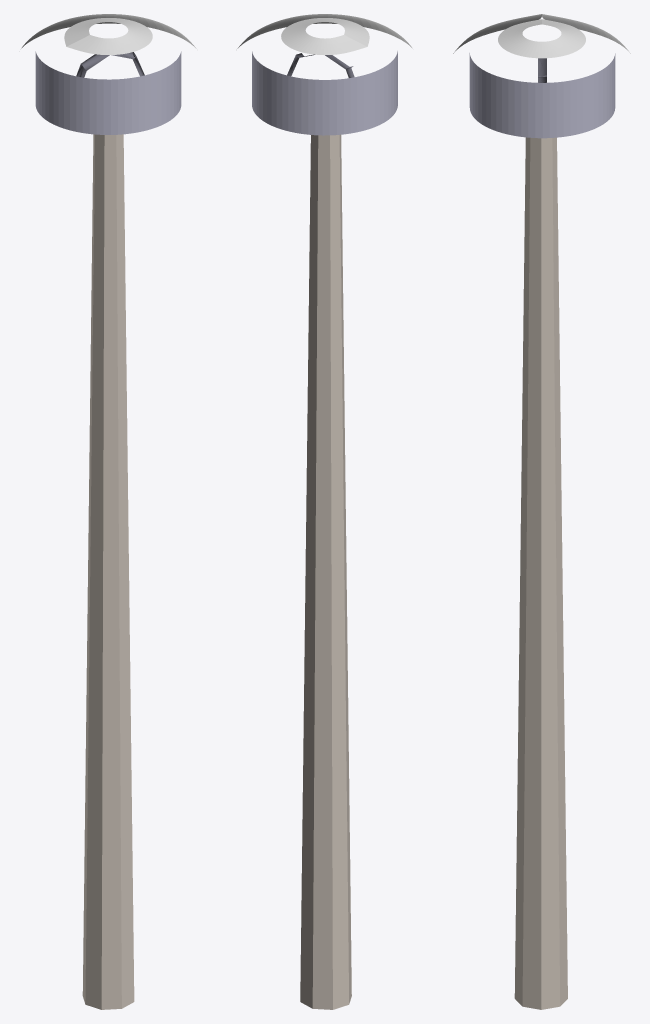
The model's file is streetlamp.gltf.
The picture shows the model from 3 angles, left to right: view 1: azimuth 30°, elevation 25°; view 2: azimuth 150°, elevation 25°; view 3: azimuth 270°, elevation 25°; orthographic projection.
Parts seen in each view (by area): view 1: Cylinder_Cylinder.003, Tube, Circle_Circle.003, Circle.001; view 2: Cylinder_Cylinder.003, Tube, Circle_Circle.003; view 3: Cylinder_Cylinder.003, Tube, Circle_Circle.003.
Boxes of the visible parts, x1,y1,x2,y2 form: Cylinder_Cylinder.003: (82,134,134,1009); Tube: (35,51,181,134); Circle_Circle.003: (21,14,196,54); Circle.001: (76,52,144,77); Cylinder_Cylinder.003: (300,134,351,1009); Tube: (252,51,397,135); Circle_Circle.003: (237,14,412,55); Cylinder_Cylinder.003: (514,137,567,1009); Tube: (469,53,615,138); Circle_Circle.003: (453,14,630,58).
Size of what is drawn, in the model's own units: 0.00904 by 0.0503 by 0.00883.
